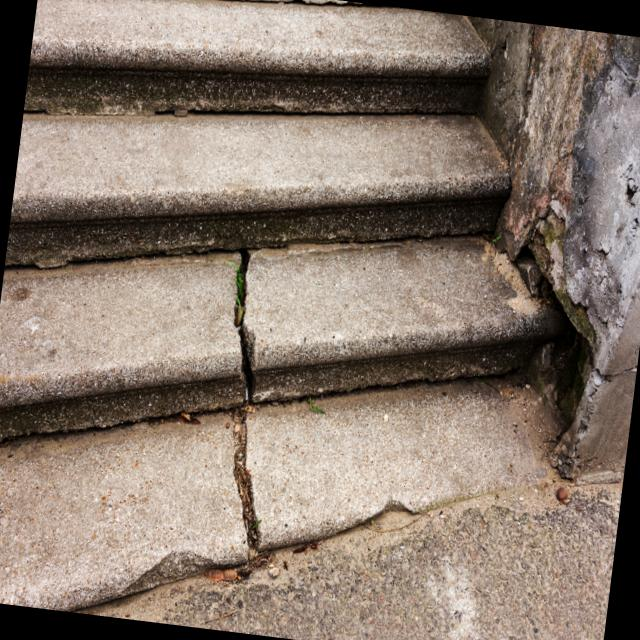crack: (210, 396, 280, 564), (218, 240, 274, 403)
